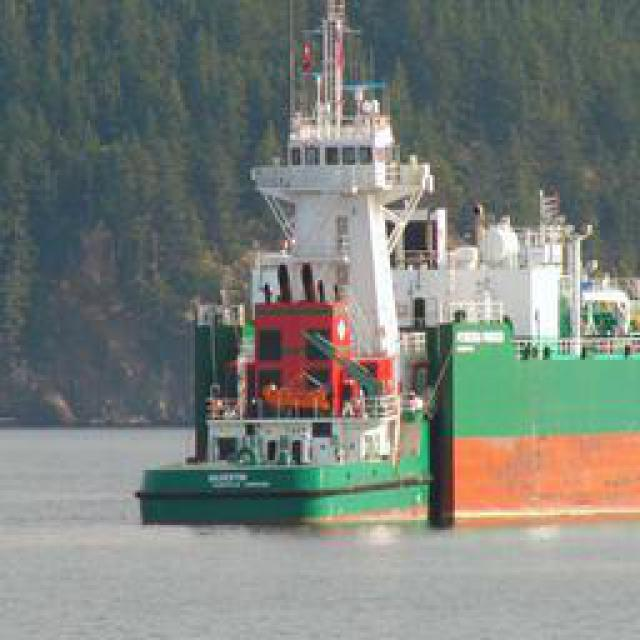Ship: (127, 61, 640, 534)
